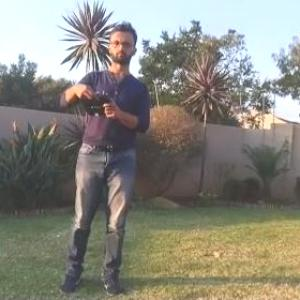follow: (52, 14, 154, 299)
